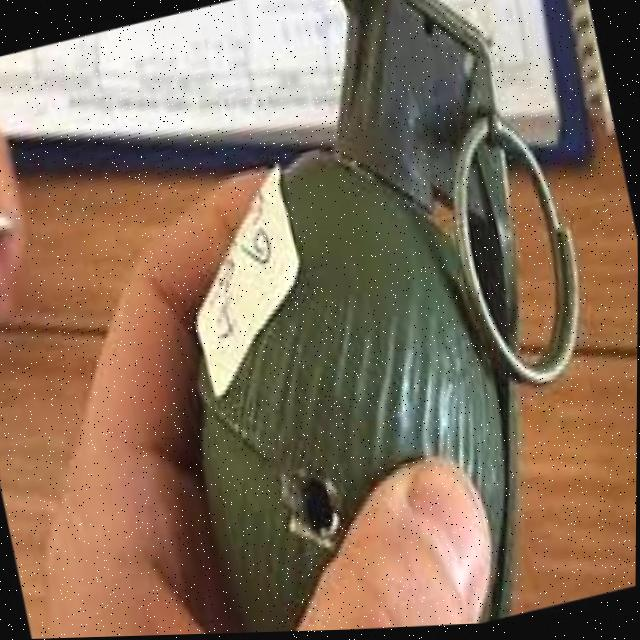grenade: (100, 0, 640, 638)
